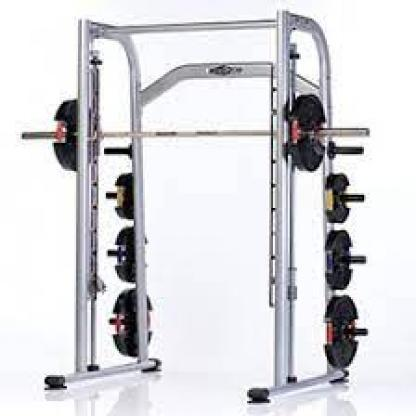smith machine: (22, 8, 371, 404)
